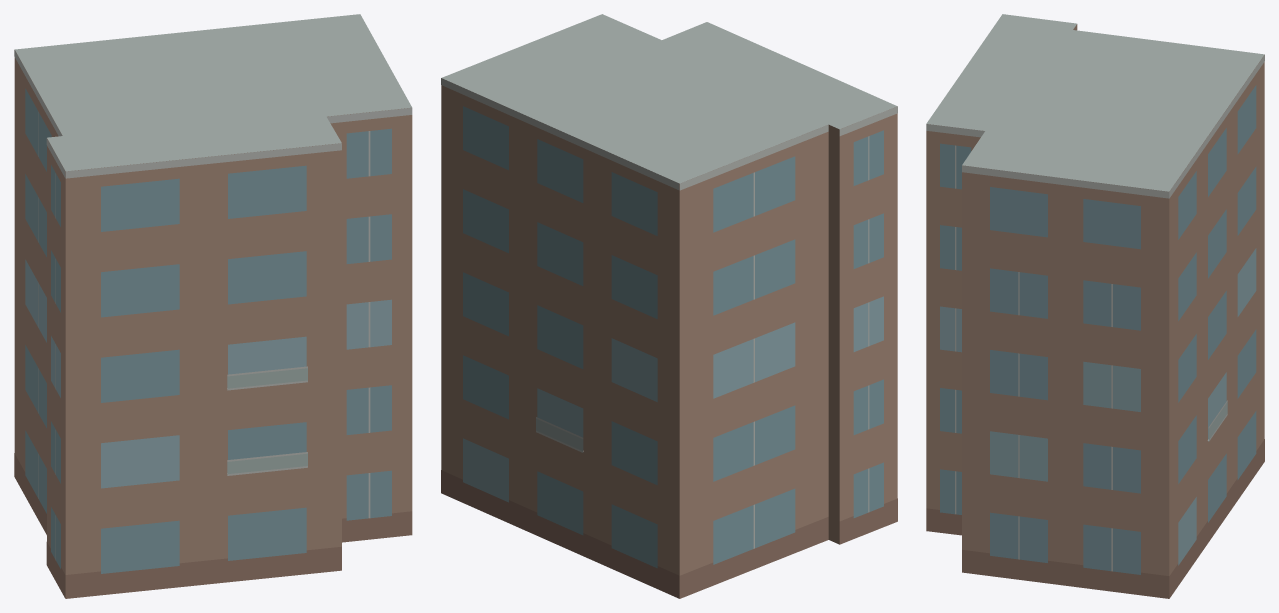
The model's file is survey-upis-32872770.glb.
3 views of the same model, side by side, from view 1: azimuth 30°, elevation 25°; view 2: azimuth 150°, elevation 25°; view 3: azimuth 270°, elevation 25° (orthographic). The views are drawn at different scales.
Visible parts, largest first — view 1: survey-upis-32872770.tmp; view 2: survey-upis-32872770.tmp; view 3: survey-upis-32872770.tmp.
Boxes of the visible parts, x1=… form: survey-upis-32872770.tmp: x1=14, y1=14, x2=412, y2=598; survey-upis-32872770.tmp: x1=441, y1=14, x2=897, y2=598; survey-upis-32872770.tmp: x1=926, y1=14, x2=1264, y2=598.
Bounding box in the file's own units: 13.49 × 14.4 × 10.86.
